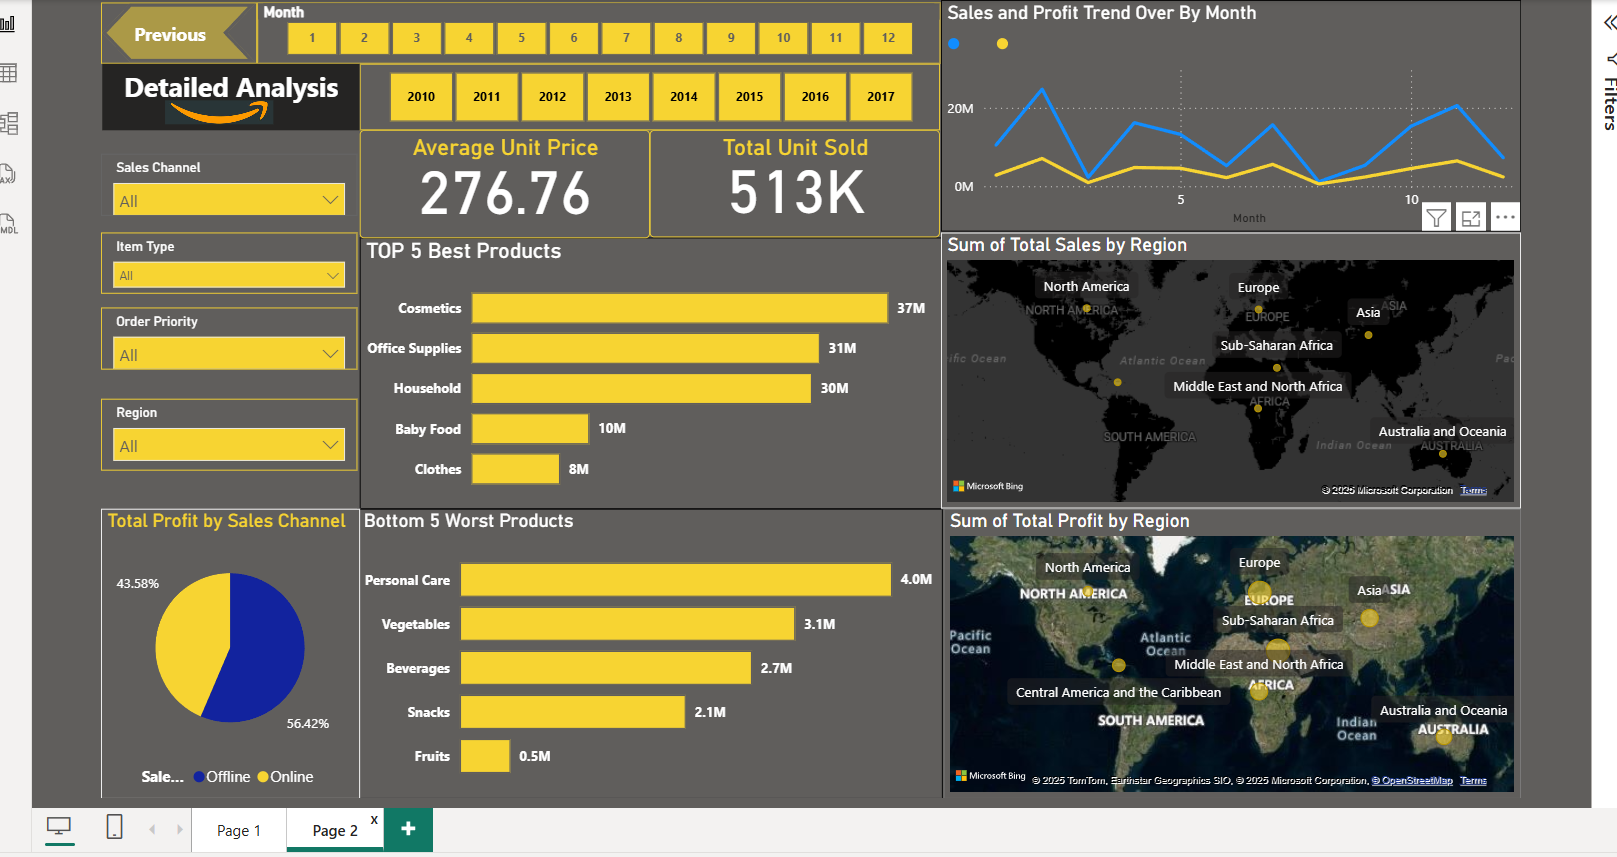

The page's visual inventory and layout, read from the dashboard file:
{"tool":"powerbi","page":{"name":"Page 2","canvas":[1280,720],"ordinal":1},"visuals":[{"type":"lineChart","title":"Sales and Profit Trend Over By Month","fields":{"Y":["Sum(Sheet1.Total Sales)","Sum(Sheet1.Total Profit)"],"Category":["Sheet1.Month"]},"box":[756.9,0,523.4,209.1],"z":0},{"type":"clusteredBarChart","title":"TOP 5 Best Products","fields":{"Category":["Sheet1.Item Type"],"Y":["Sum(Sheet1.Total Sales)"]},"box":[233.6,214,525.8,244.6],"z":1000},{"type":"clusteredBarChart","title":"Bottom 5 Worst Products","fields":{"Category":["Sheet1.Item Type"],"Y":["Sum(Sheet1.Total Sales)"]},"box":[231.1,458.6,528.3,261.7],"z":2000},{"type":"pieChart","title":"Total Profit by Sales Channel","fields":{"Y":["Sum(Sheet1.Total Profit)"],"Category":["Sheet1.Sales Channel"]},"box":[0,458.6,233.6,261.7],"z":3000},{"type":"actionButton","box":[0,2.4,140.6,55],"z":4000},{"type":"map","fields":{"Category":["Sheet1.Region"]},"box":[756.9,209.1,523.4,249.5],"z":5000},{"type":"card","title":"Total Unit Sold","fields":{"Values":["Sum(Sheet1.Units Sold)"]},"box":[495.2,117.4,261.7,96.6],"z":6000},{"type":"card","title":"Average Unit Price","fields":{"Values":["Avg(Sheet1.Unit Price)"]},"box":[233.6,117.4,261.7,97.8],"z":7000},{"type":"map","fields":{"Category":["Sheet1.Region"],"Size":["Sum(Sheet1.Total Profit)"]},"box":[759.4,458.6,520.9,261.7],"z":8000},{"type":"slicer","title":"Month","fields":{"Values":["Sheet1.Month"]},"box":[140.6,2.4,616.3,55],"z":9000},{"type":"slicer","title":"Year","fields":{"Values":["Sheet1.Year"]},"box":[233.6,57.5,523.4,59.9],"z":10000},{"type":"slicer","fields":{"Values":["Sheet1.Item Type"]},"box":[0,209.1,231.1,55],"z":11000},{"type":"slicer","fields":{"Values":["Sheet1.Region"]},"box":[0,359.5,231.1,64.8],"z":12000},{"type":"slicer","fields":{"Values":["Sheet1.Order Priority"]},"box":[0,277.6,231.1,56.3],"z":13000},{"type":"slicer","fields":{"Values":["Sheet1.Sales Channel"]},"box":[0,138.2,231.1,56.3],"z":14000},{"type":"group","id":"g1","title":"Group 1","box":[1.2,57.5,232.3,59.9],"z":15000},{"type":"textbox","box":[1.2,57.5,232.3,59.9],"z":17000,"group":"g1"},{"type":"image","box":[52.5,85.4,107.6,31],"z":18000,"group":"g1"}]}

Visuals, with their boxes on the page's 1280x720 design canvas (x1, y1, x2, y2). These are canvas units, not pixel positions in the 1617x857 screenshot, which may show the page scaled, cropped or inside an application window:
"Sales and Profit Trend Over By Month" lineChart: {"x1": 757, "y1": 0, "x2": 1280, "y2": 209}
"TOP 5 Best Products" clusteredBarChart: {"x1": 234, "y1": 214, "x2": 759, "y2": 459}
"Bottom 5 Worst Products" clusteredBarChart: {"x1": 231, "y1": 459, "x2": 759, "y2": 720}
"Total Profit by Sales Channel" pieChart: {"x1": 0, "y1": 459, "x2": 234, "y2": 720}
actionButton: {"x1": 0, "y1": 2, "x2": 141, "y2": 57}
map - Sheet1.Region: {"x1": 757, "y1": 209, "x2": 1280, "y2": 459}
"Total Unit Sold" card: {"x1": 495, "y1": 117, "x2": 757, "y2": 214}
"Average Unit Price" card: {"x1": 234, "y1": 117, "x2": 495, "y2": 215}
map - Sheet1.Region x Sum(Sheet1.Total Profit): {"x1": 759, "y1": 459, "x2": 1280, "y2": 720}
"Month" slicer: {"x1": 141, "y1": 2, "x2": 757, "y2": 57}
"Year" slicer: {"x1": 234, "y1": 58, "x2": 757, "y2": 117}
slicer - Sheet1.Item Type: {"x1": 0, "y1": 209, "x2": 231, "y2": 264}
slicer - Sheet1.Region: {"x1": 0, "y1": 360, "x2": 231, "y2": 424}
slicer - Sheet1.Order Priority: {"x1": 0, "y1": 278, "x2": 231, "y2": 334}
slicer - Sheet1.Sales Channel: {"x1": 0, "y1": 138, "x2": 231, "y2": 194}
"Group 1" group: {"x1": 1, "y1": 58, "x2": 234, "y2": 117}
textbox: {"x1": 1, "y1": 58, "x2": 234, "y2": 117}
image: {"x1": 52, "y1": 85, "x2": 160, "y2": 116}
